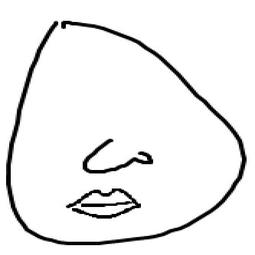cupid_mouth: (62, 181, 145, 220)
nose: (74, 129, 159, 179)
